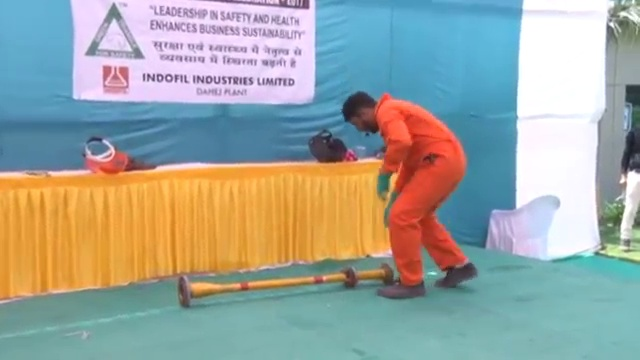helmet_off: (341, 90, 379, 138)
person: (338, 87, 479, 302), (618, 121, 640, 256)
